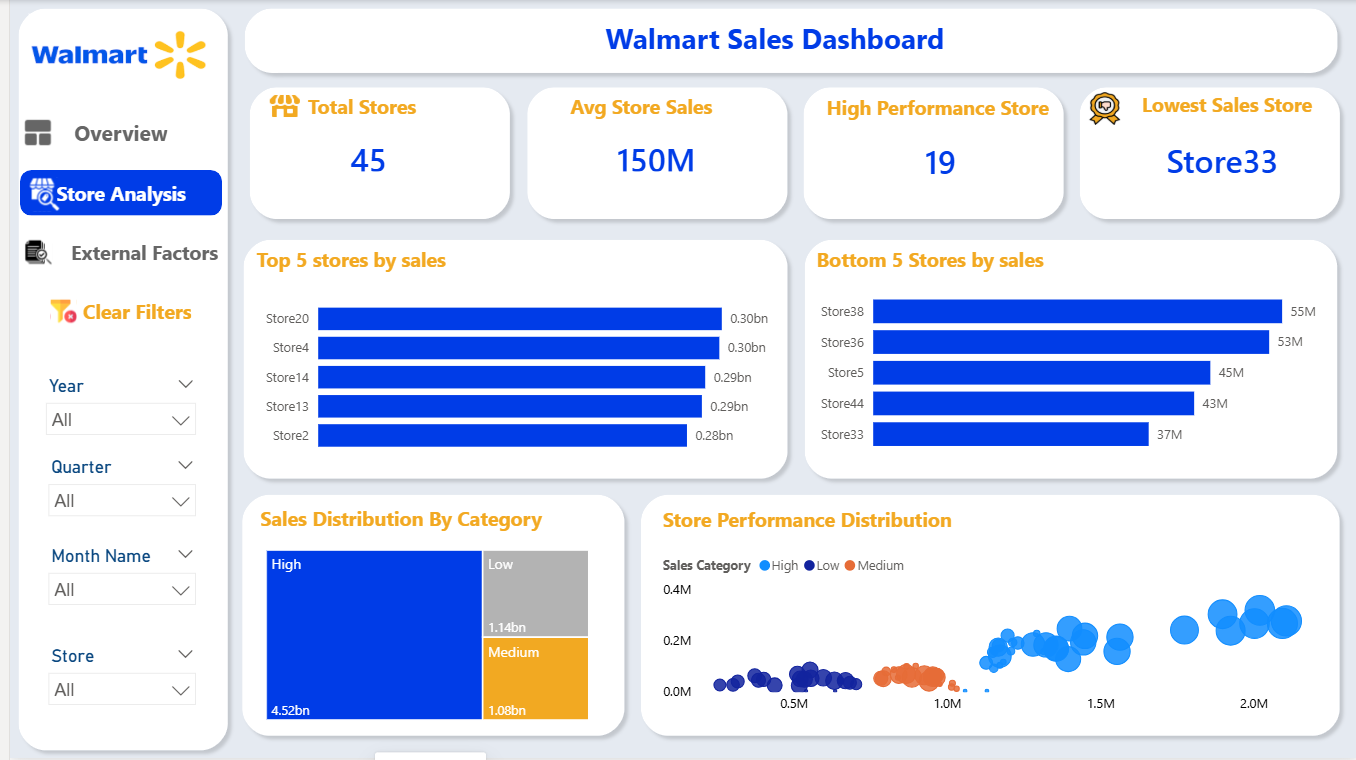

The page's visual inventory and layout, read from the dashboard file:
{"tool":"powerbi","page":{"name":"Store Analysis","canvas":[1280,720],"ordinal":1},"visuals":[{"type":"shape","box":[0,0,214.7,720.2],"z":0},{"type":"shape","box":[214.7,0,1053.2,77.2],"z":1000},{"type":"textbox","box":[255.8,13.3,939.8,50.7],"z":2000},{"type":"image","box":[18.1,13.3,170.1,77.2],"z":3000},{"type":"shape","box":[214.1,219.6,532.4,242.9],"z":4000},{"type":"shape","box":[591.2,462.1,679.2,244.9],"z":5000},{"type":"shape","box":[212.3,462.1,378.8,244.9],"z":6000},{"type":"textbox","box":[232.8,474.1,358.3,42.2],"z":7000},{"type":"textbox","box":[229.2,229.2,392.1,42.2],"z":8000},{"type":"textbox","box":[614.1,475.3,498.3,37.4],"z":9000},{"type":"actionButton","box":[9.7,103.8,191.8,44.6],"z":10000},{"type":"actionButton","box":[9.7,161.7,191.8,43.4],"z":11000},{"type":"actionButton","box":[9.7,219.6,191.8,39.8],"z":12000},{"type":"shape","box":[744.7,75.1,263,141.2],"z":14000},{"type":"shape","box":[220.1,75.1,263,141.2],"z":15000},{"type":"shape","box":[482.4,75.1,263,141.2],"z":16000},{"type":"shape","box":[1007,75.1,263,141.2],"z":17000},{"type":"treemap","fields":{"Values":["Measure Table.Total Sales"],"Details":["Walmart_Sales.Sales Category"]},"box":[238.9,517.6,316.1,171.3],"z":18000},{"type":"scatterChart","fields":{"Y":["Measure Table.Sales Slability"],"Size":["Measure Table.Total Sales"],"X":["Measure Table.Avg Weekly Sales"],"Series":["Walmart_Sales.Sales Category"],"Category":["Walmart_Sales.Store"]},"box":[614.1,517.6,643,168.9],"z":19000},{"type":"shape","box":[746.5,219.6,521.4,242.9],"z":20000},{"type":"textbox","box":[760.2,229.2,391.1,42.5],"z":21000},{"type":"slicer","fields":{"Values":["Calender.Year"]},"box":[24.2,351.1,162.9,62.7],"z":22000},{"type":"slicer","fields":{"Values":["Calender.Quarter"]},"box":[26.6,428.8,160.5,68.8],"z":23000},{"type":"slicer","fields":{"Values":["Calender.Month Name"]},"box":[26.6,512.7,160.5,79.6],"z":24000},{"type":"slicer","fields":{"Values":["Walmart_Sales.Store"]},"box":[26.6,607.3,160.5,79.6],"z":25000},{"type":"actionButton","box":[34.8,276.1,141.8,37.3],"z":27000},{"type":"textbox","box":[278.2,82.5,173.7,44.6],"z":28000},{"type":"cardVisual","fields":{"Data":["Measure Table.Total Stores"]},"box":[255.8,119.4,168.9,60.3],"z":29000},{"type":"image","box":[243.7,86.9,35,27.7],"z":30000},{"type":"textbox","box":[527.2,83.2,173.7,44.6],"z":31000},{"type":"cardVisual","fields":{"Data":["Measure Table.Avg Store Sales"]},"box":[518.8,119.4,190.6,60.3],"z":32000},{"type":"textbox","box":[769.7,84.5,226.8,36.2],"z":33000},{"type":"cardVisual","fields":{"Data":["Measure Table.High Performance Stores"]},"box":[780.6,114.6,205.1,72.4],"z":34000},{"type":"textbox","box":[1038.5,81.6,234,41],"z":35000},{"type":"cardVisual","fields":{"Data":["Measure Table.Lowest Sales Store"]},"box":[1058,117,185.8,68.8],"z":36000},{"type":"image","box":[1020.4,86.4,37.4,32.6],"z":37000},{"type":"clusteredBarChart","fields":{"Category":["Walmart_Sales.Store"],"Y":["Measure Table.Total Sales"]},"box":[233.3,267.6,492.6,172.9],"z":38000},{"type":"clusteredBarChart","fields":{"Category":["Walmart_Sales.Store"],"Y":["Measure Table.Total Sales"]},"box":[760.2,259.3,498.1,181.1],"z":39000}]}

Visuals, with their boxes in screenshot pixels (x1, y1, x2, y2), scaled from the page's 1280x720 canvas onto the 1356x760 screenshot:
shape: locate(0, 0, 227, 759)
shape: locate(227, 0, 1343, 81)
textbox: locate(271, 14, 1267, 68)
image: locate(19, 14, 199, 96)
shape: locate(227, 232, 791, 488)
shape: locate(626, 488, 1346, 746)
shape: locate(225, 488, 626, 746)
textbox: locate(247, 500, 626, 545)
textbox: locate(243, 242, 658, 286)
textbox: locate(651, 502, 1178, 541)
actionButton: locate(10, 110, 213, 157)
actionButton: locate(10, 171, 213, 216)
actionButton: locate(10, 232, 213, 274)
shape: locate(789, 79, 1068, 228)
shape: locate(233, 79, 512, 228)
shape: locate(511, 79, 790, 228)
shape: locate(1067, 79, 1345, 228)
treemap - Measure Table.Total Sales x Walmart_Sales.Sales Category: locate(253, 546, 588, 727)
scatterChart - Measure Table.Sales Slability x Measure Table.Total Sales: locate(651, 546, 1332, 725)
shape: locate(791, 232, 1343, 488)
textbox: locate(805, 242, 1220, 287)
slicer - Calender.Year: locate(26, 371, 198, 437)
slicer - Calender.Quarter: locate(28, 453, 198, 525)
slicer - Calender.Month Name: locate(28, 541, 198, 625)
slicer - Walmart_Sales.Store: locate(28, 641, 198, 725)
actionButton: locate(37, 291, 187, 331)
textbox: locate(295, 87, 479, 134)
cardVisual - Measure Table.Total Stores: locate(271, 126, 450, 190)
image: locate(258, 92, 295, 121)
textbox: locate(559, 88, 743, 135)
cardVisual - Measure Table.Avg Store Sales: locate(550, 126, 752, 190)
textbox: locate(815, 89, 1056, 127)
cardVisual - Measure Table.High Performance Stores: locate(827, 121, 1044, 197)
textbox: locate(1100, 86, 1348, 129)
cardVisual - Measure Table.Lowest Sales Store: locate(1121, 124, 1318, 196)
image: locate(1081, 91, 1121, 126)
clusteredBarChart - Walmart_Sales.Store x Measure Table.Total Sales: locate(247, 282, 769, 465)
clusteredBarChart - Walmart_Sales.Store x Measure Table.Total Sales: locate(805, 274, 1333, 465)
